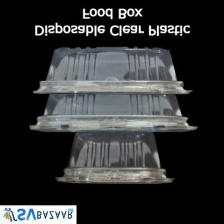plastic_box: (27, 41, 197, 100), (24, 86, 203, 138), (50, 124, 178, 190)
